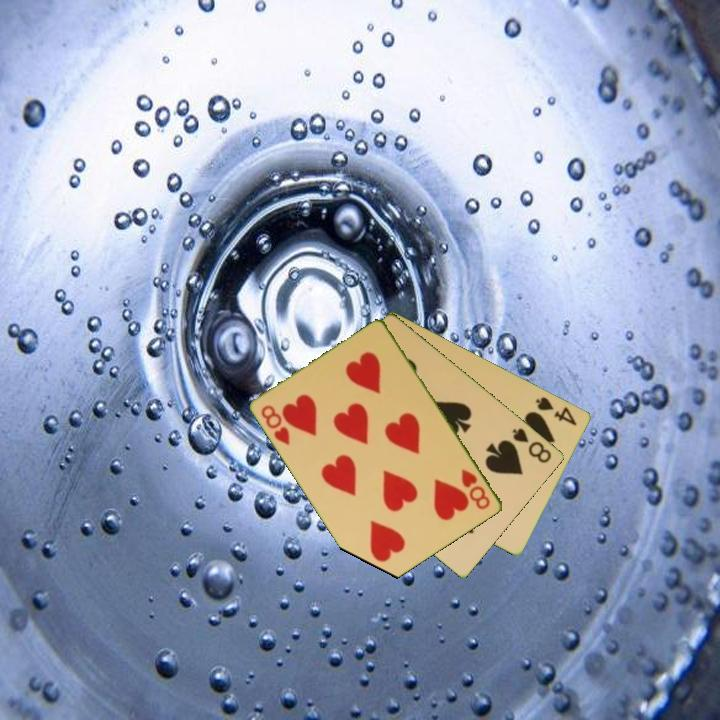4s: (532, 393, 580, 429)
8h: (458, 465, 494, 513), (258, 401, 293, 448)
8s: (509, 424, 555, 466)
